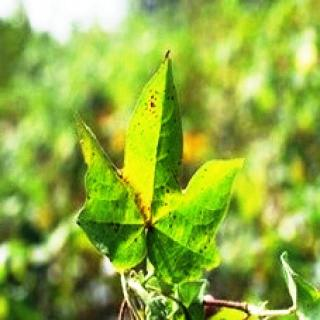leaf spot: (70, 48, 214, 270)
